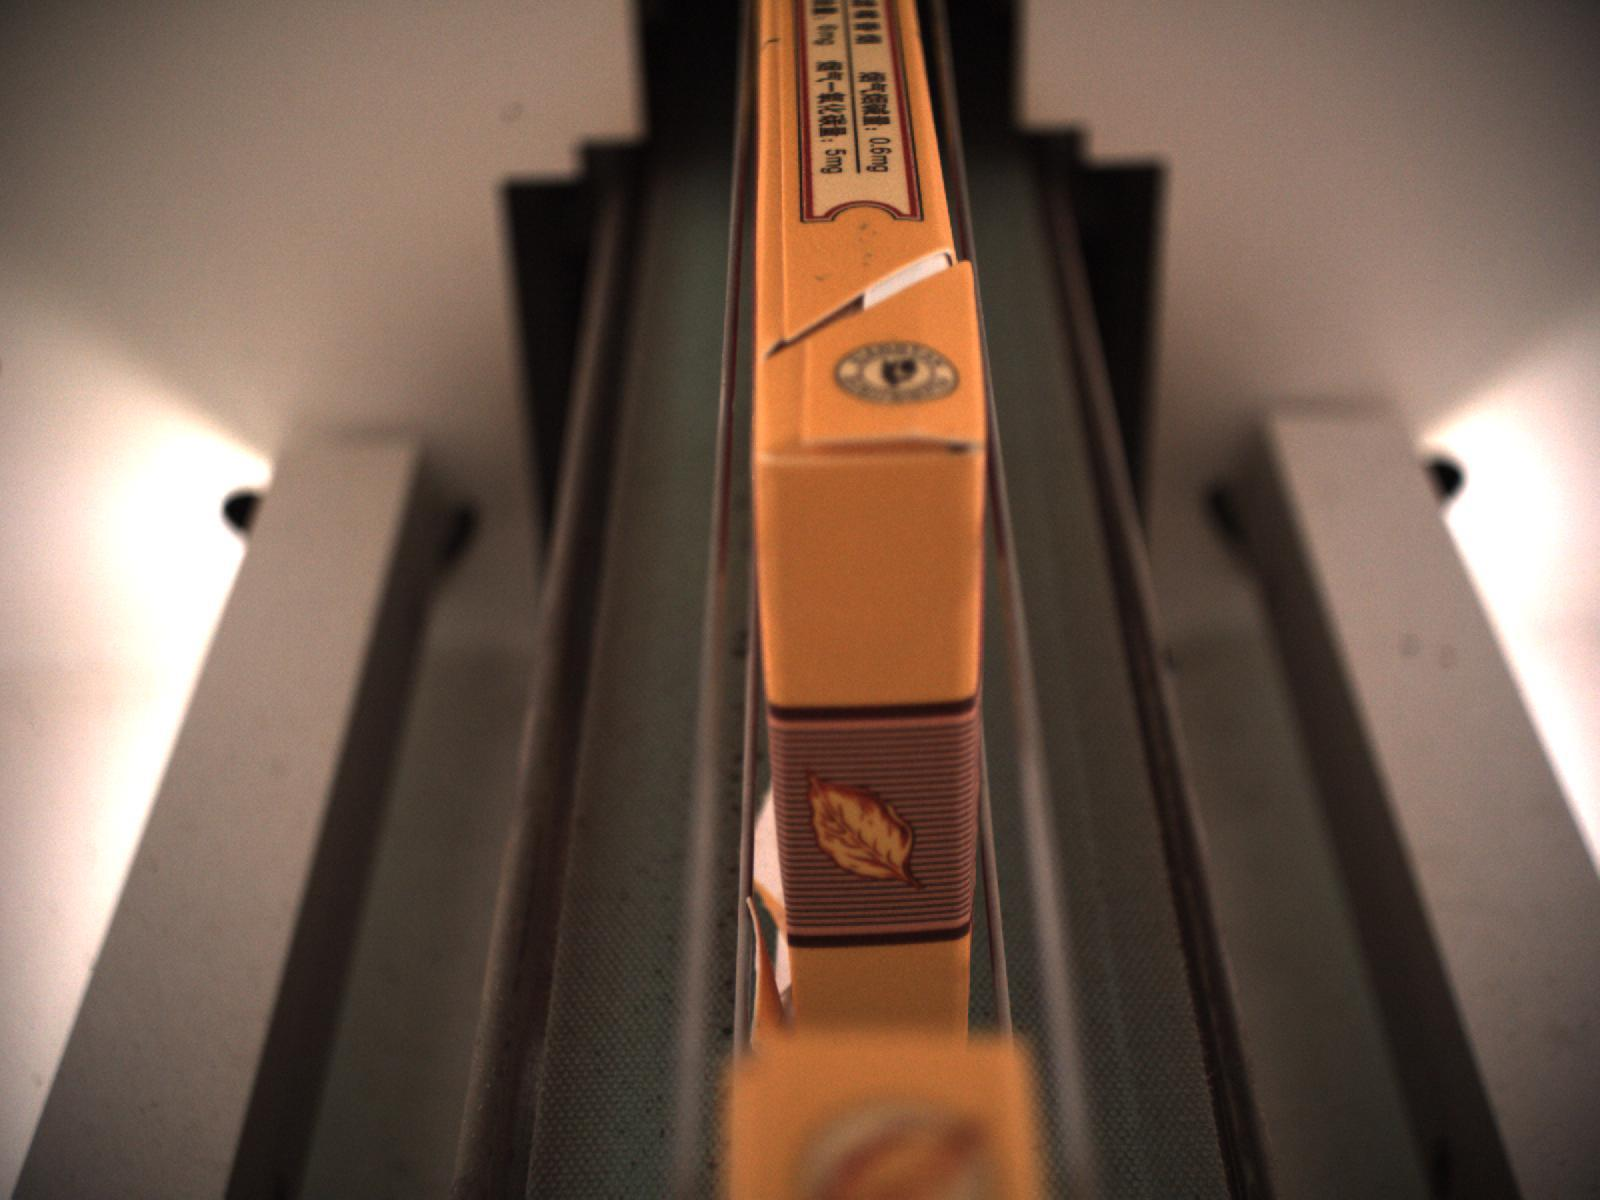dirtySpot: (812, 273, 828, 285), (863, 254, 875, 266)
headDamage_upper_2: (758, 345, 982, 467)
skewed_upper_2: (754, 28, 806, 358)
